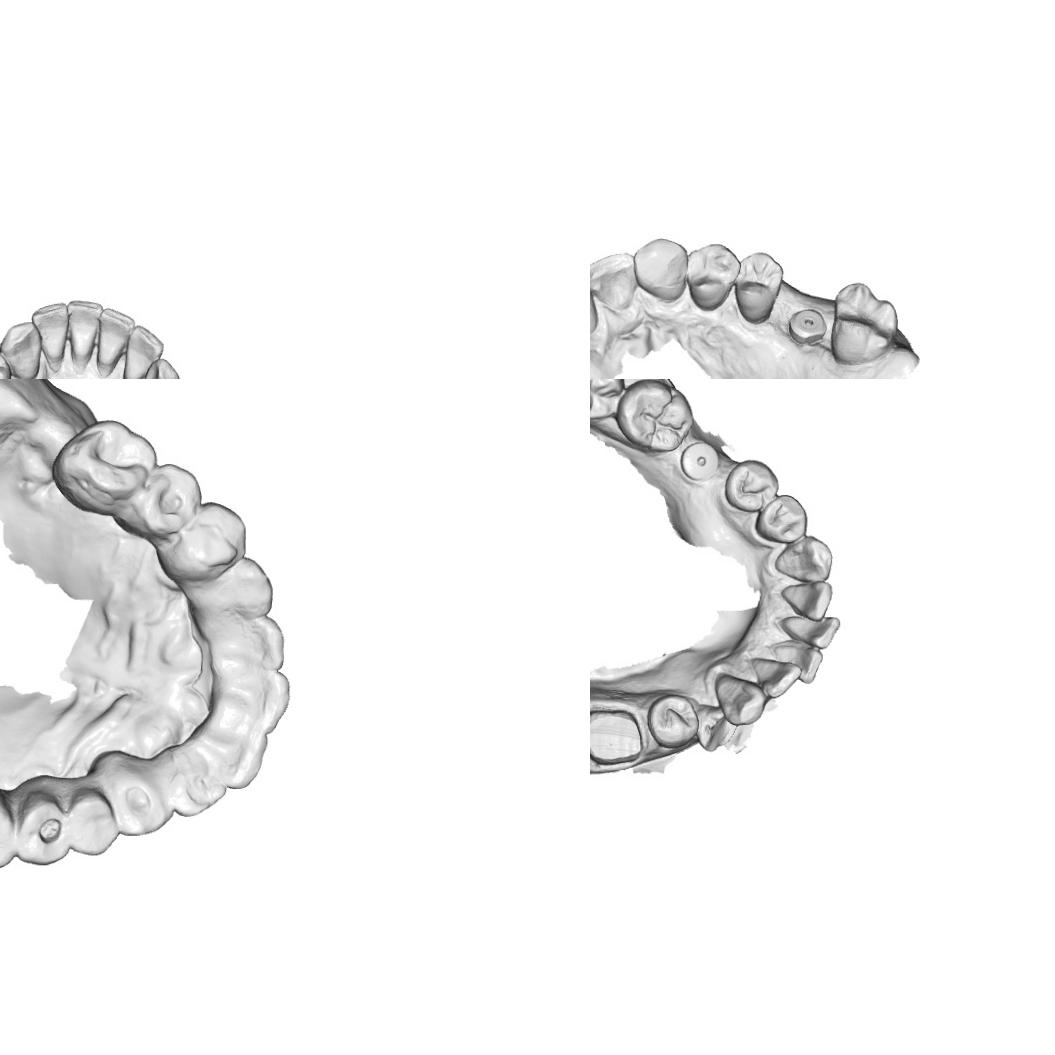canine: (105, 752, 175, 836), (196, 558, 274, 624), (632, 235, 690, 304), (712, 671, 769, 728), (775, 533, 834, 584), (0, 319, 41, 379), (136, 357, 183, 379)
crown: (590, 698, 650, 769)
implant: (678, 438, 722, 484), (786, 306, 829, 346)
incisor: (222, 666, 290, 735), (204, 724, 270, 791), (218, 614, 286, 674), (162, 760, 228, 818), (590, 249, 637, 312), (778, 611, 842, 652), (30, 301, 72, 363), (747, 656, 803, 702), (121, 322, 165, 379), (96, 306, 137, 367), (776, 637, 827, 685), (780, 579, 835, 623), (67, 297, 104, 358)
molar: (50, 418, 154, 514), (828, 279, 900, 367), (613, 379, 696, 455)
premolar: (172, 500, 252, 577), (124, 461, 199, 539), (13, 787, 72, 867), (685, 241, 742, 313), (732, 249, 786, 324), (65, 785, 118, 858), (646, 689, 700, 754), (723, 457, 781, 513), (754, 494, 809, 546)
